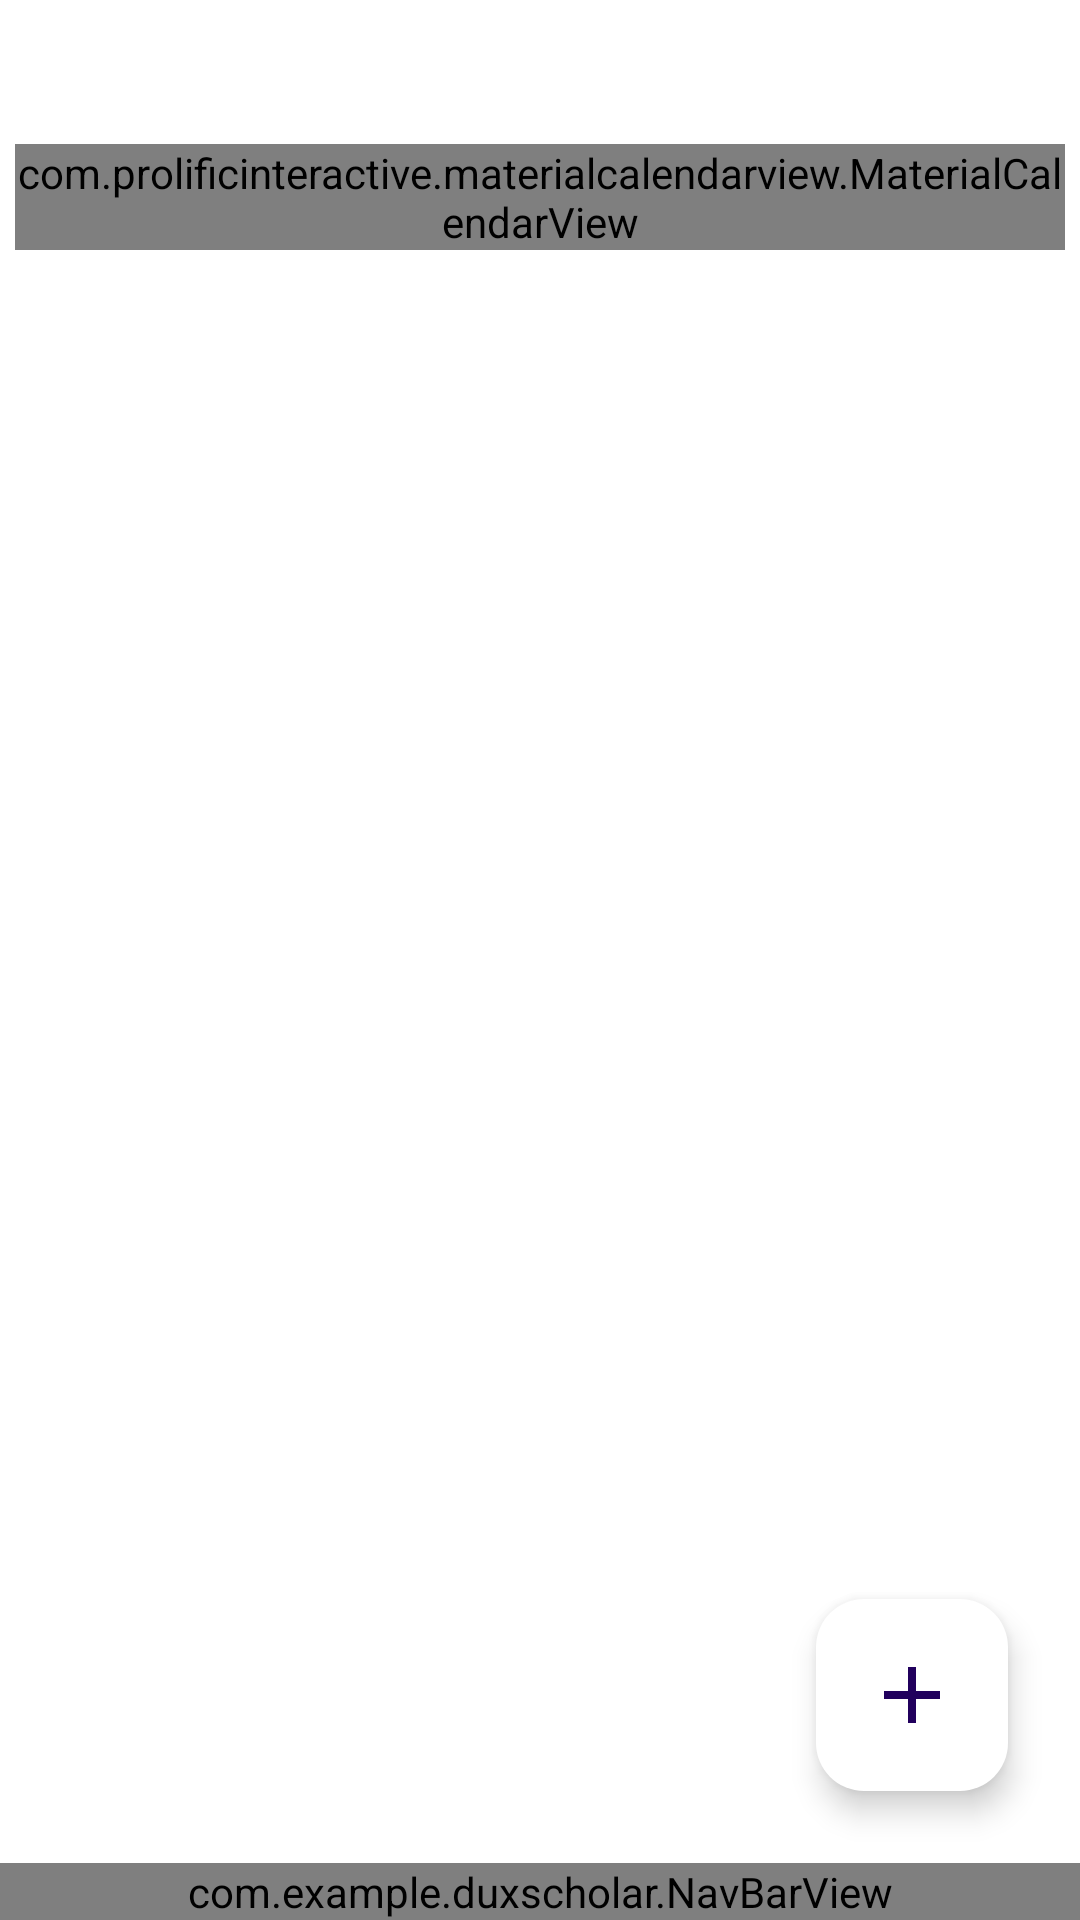

Named icons in this screenshot (1080px×1920px) and their centers, point (x, y):
Adicionar: point (912, 1695)
